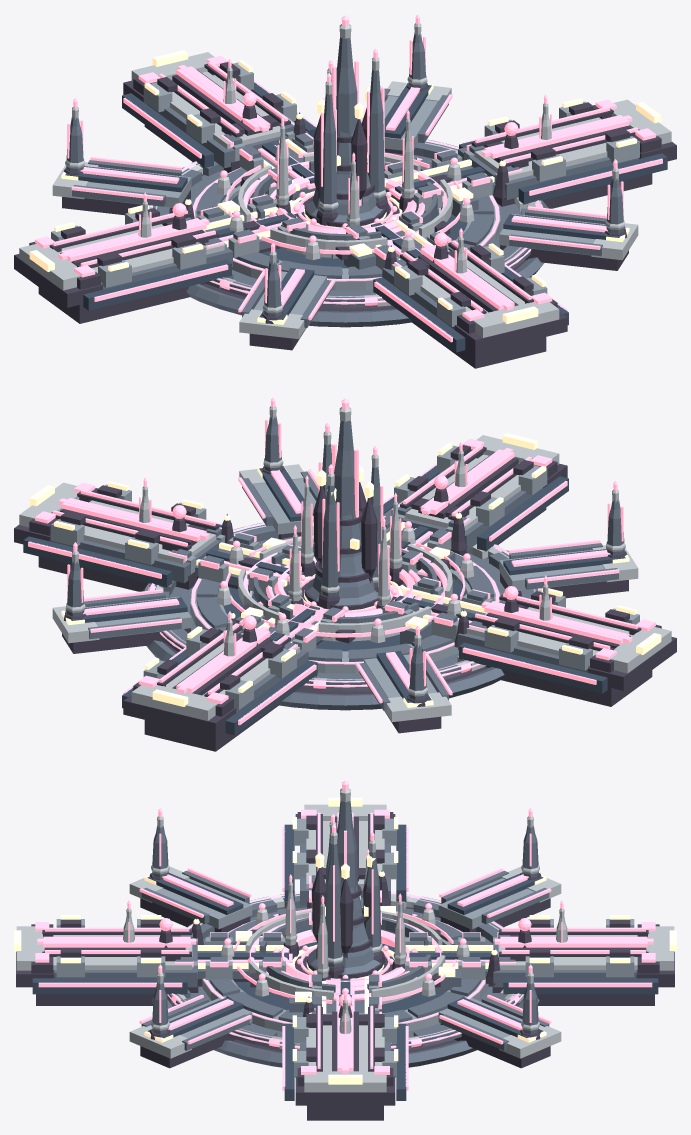
The model's file is base_mars.glb.
The picture shows the model from 3 angles, top to bottom: view 1: azimuth 30°, elevation 25°; view 2: azimuth 150°, elevation 25°; view 3: azimuth 270°, elevation 25°; orthographic projection. The views are drawn at different scales.
Visible parts, largest first — view 1: LOD_gunmetal_01, LOD_red_04, LOD_obsidian_00, LOD_silver_06, LOD_dark_03, LOD_steel_02, LOD_hot_red_05; view 2: LOD_gunmetal_01, LOD_red_04, LOD_obsidian_00, LOD_silver_06, LOD_steel_02, LOD_dark_03, LOD_hot_red_05; view 3: LOD_gunmetal_01, LOD_red_04, LOD_obsidian_00, LOD_silver_06, LOD_dark_03, LOD_steel_02, LOD_hot_red_05.
Boxes of the visible parts, <box> form: LOD_gunmetal_01: <box>66,33,638,329</box>; LOD_red_04: <box>35,14,662,342</box>; LOD_obsidian_00: <box>14,62,676,368</box>; LOD_silver_06: <box>19,23,671,339</box>; LOD_dark_03: <box>65,82,667,352</box>; LOD_steel_02: <box>51,62,639,326</box>; LOD_hot_red_05: <box>29,50,661,324</box>; LOD_gunmetal_01: <box>52,416,624,712</box>; LOD_red_04: <box>28,397,655,725</box>; LOD_obsidian_00: <box>14,445,676,751</box>; LOD_silver_06: <box>19,406,671,722</box>; LOD_steel_02: <box>51,445,639,709</box>; LOD_dark_03: <box>23,465,625,735</box>; LOD_hot_red_05: <box>29,433,661,707</box>; LOD_gunmetal_01: <box>54,801,636,1067</box>; LOD_red_04: <box>35,780,655,1090</box>; LOD_obsidian_00: <box>16,812,674,1120</box>; LOD_silver_06: <box>16,788,674,1092</box>; LOD_dark_03: <box>32,824,658,1100</box>; LOD_steel_02: <box>56,818,634,1077</box>; LOD_hot_red_05: <box>14,797,676,1084</box>.
Size of the model in its own units: 18.59 by 6.81 by 18.59.
